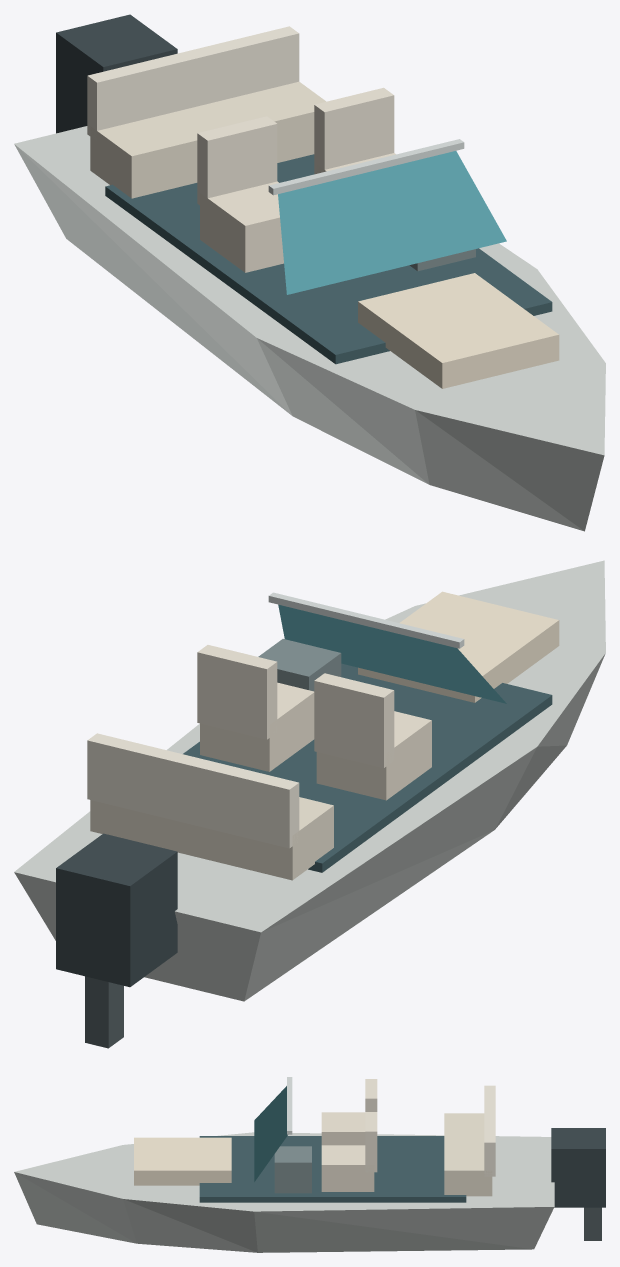
The model's file is tangmo-speedboat.glb.
3 renders of one model, top to bottom at view 1: azimuth 30°, elevation 25°; view 2: azimuth 150°, elevation 25°; view 3: azimuth 270°, elevation 25°, orthographic. The views are drawn at different scales.
Visible parts, largest first — view 1: ivory-v-hull, deck, windshield, dark-cockpit, bow-cushion, transom-bench, bench-back, seat-back (×2), outboard, seat, windshield-rail; view 2: deck, ivory-v-hull, outboard, dark-cockpit, bench-back, seat-back (×2), seat (×2), transom-bench, bow-cushion, windshield, console, engine-leg (+1 smaller); view 3: ivory-v-hull, deck, dark-cockpit, bow-cushion, outboard, seat (×2), transom-bench, windshield, console, seat-back (×2), bench-back, engine-leg (+1 smaller).
Part boxes in pixels (x1,y1,x2,y2): ivory-v-hull: (14, 144, 604, 531); deck: (14, 126, 605, 455); windshield: (278, 151, 506, 294); dark-cockpit: (105, 154, 552, 364); bow-cushion: (358, 273, 559, 388); transom-bench: (90, 81, 325, 198); bench-back: (87, 26, 299, 138); seat-back (×2): (197, 87, 394, 205); outboard: (56, 14, 177, 133); seat: (200, 181, 283, 272); windshield-rail: (268, 139, 464, 195); deck: (14, 560, 605, 932); ivory-v-hull: (14, 653, 605, 1001); outboard: (56, 833, 177, 987); dark-cockpit: (183, 663, 552, 872); bench-back: (87, 733, 299, 848); seat-back (×2): (197, 645, 394, 768); seat (×2): (200, 682, 431, 800); transom-bench: (90, 797, 333, 880); bow-cushion: (358, 591, 559, 702); windshield: (278, 604, 506, 703); console: (258, 639, 341, 691); engine-leg: (85, 976, 123, 1048); ivory-v-hull: (14, 1172, 554, 1252); deck: (14, 1132, 554, 1211); dark-cockpit: (199, 1136, 466, 1202); bow-cushion: (134, 1137, 231, 1185); outboard: (551, 1128, 605, 1207); seat (×2): (321, 1112, 374, 1191); transom-bench: (444, 1113, 492, 1196); windshield: (254, 1086, 287, 1181); console: (274, 1146, 311, 1193); seat-back (×2): (365, 1079, 377, 1172); bench-back: (484, 1085, 495, 1176); engine-leg: (584, 1207, 601, 1240).
Bounding box in the file's own units: 2.5 × 1.96 × 7.88.
